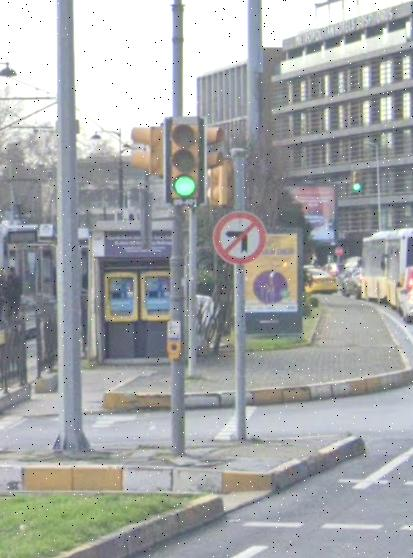greenlight: (168, 120, 201, 197)
leftturnsareforbidden: (217, 213, 263, 260)
